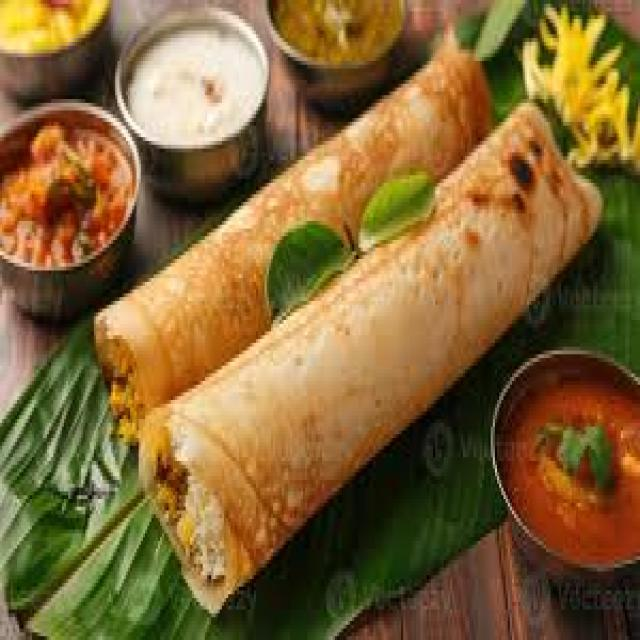DOSA: (129, 91, 606, 611), (90, 36, 492, 438)
